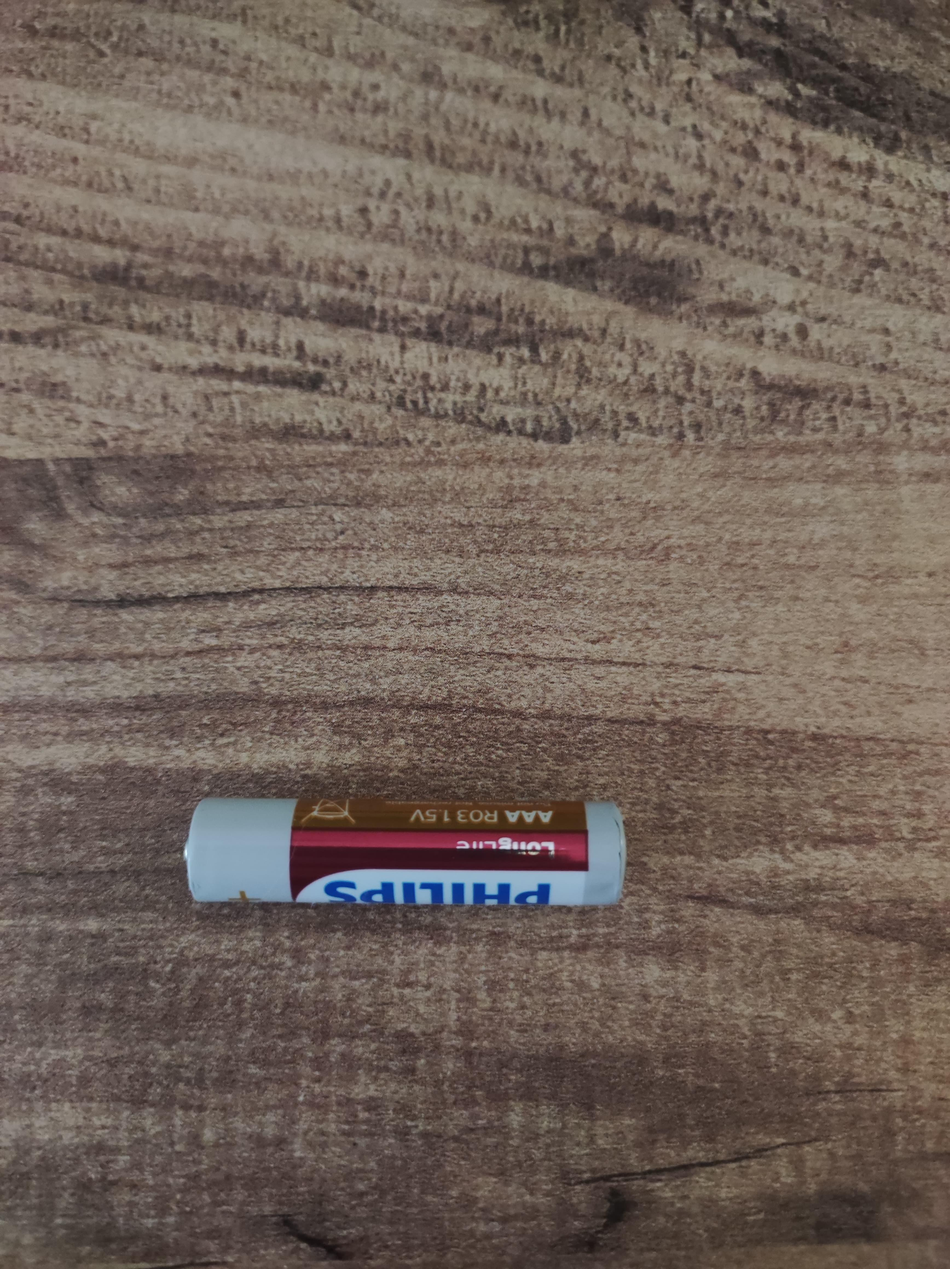AA: (183, 795, 627, 907)
